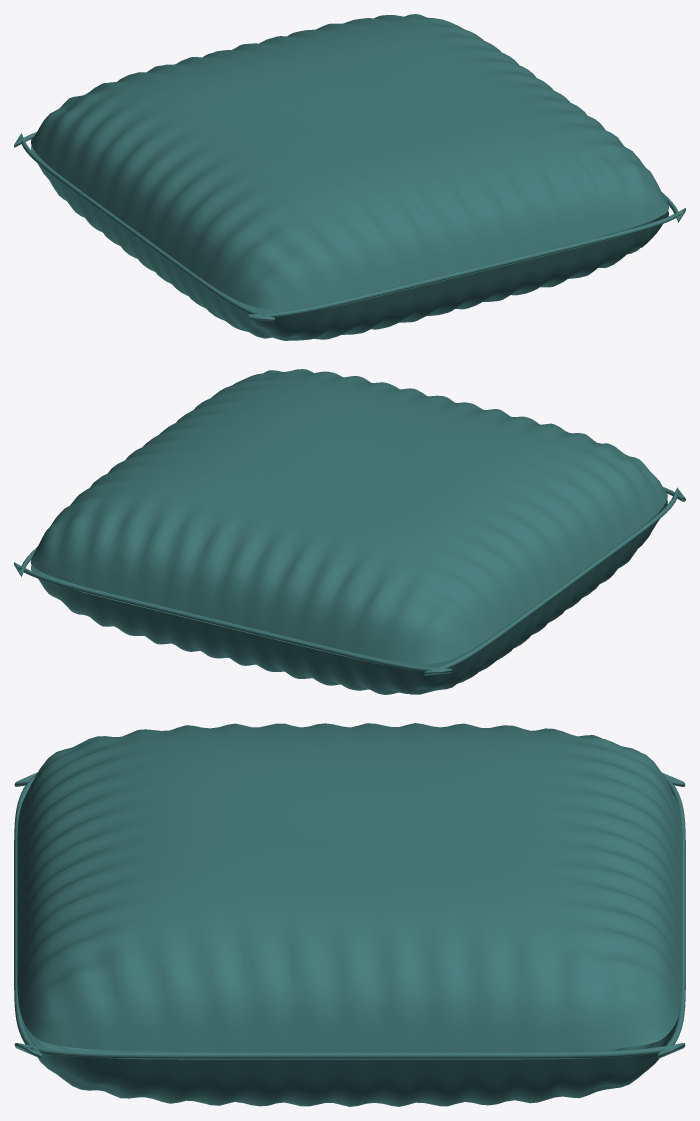
Rendered from cushion.glb.
3 renders of one model, top to bottom at view 1: azimuth 30°, elevation 25°; view 2: azimuth 150°, elevation 25°; view 3: azimuth 270°, elevation 25°, orthographic. The views are drawn at different scales.
Visible parts, largest first — view 1: coussin, coussin_passepoil; view 2: coussin, coussin_passepoil; view 3: coussin, coussin_passepoil.
Part boxes in pixels (x1=…): coussin: x1=31, y1=14, x2=668, y2=340; coussin_passepoil: x1=14, y1=132, x2=685, y2=321; coussin: x1=31, y1=369, x2=667, y2=694; coussin_passepoil: x1=14, y1=487, x2=685, y2=675; coussin: x1=17, y1=723, x2=682, y2=1106; coussin_passepoil: x1=14, y1=772, x2=685, y2=1058.
Bounding box in the file's own units: 0.4644 × 0.15 × 0.4644.
